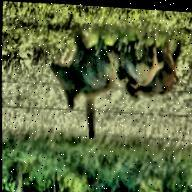boar: (41, 32, 117, 118), (123, 47, 184, 108), (108, 39, 161, 91)
